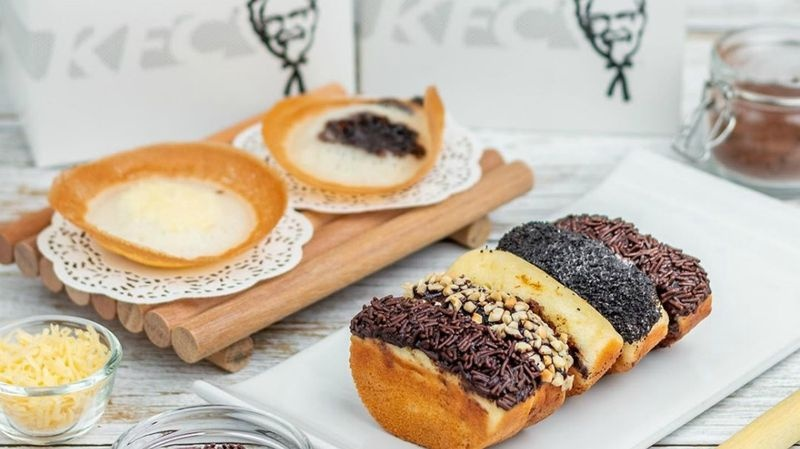pukis: (290, 286, 542, 440)
